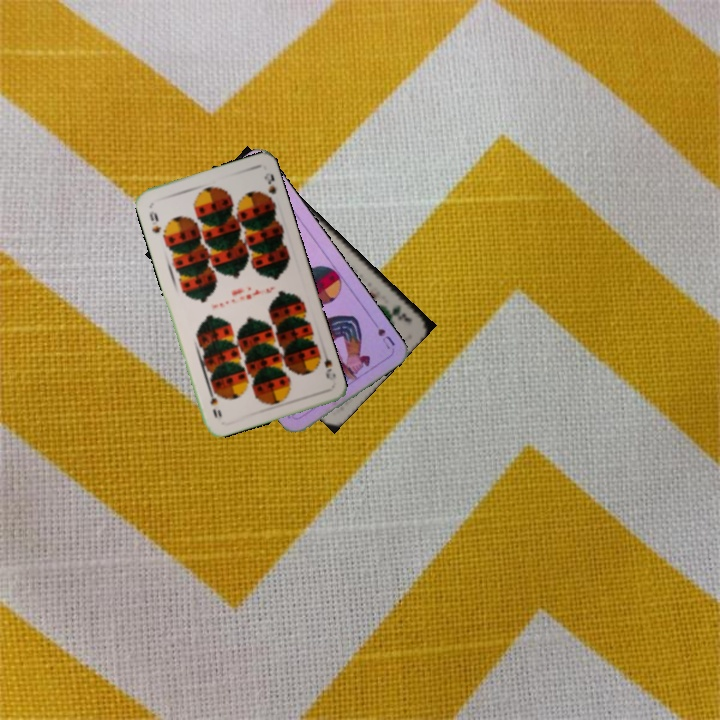GK: (388, 301, 415, 325)
S9: (314, 345, 338, 381), (145, 207, 164, 236)
SU: (367, 315, 398, 352)
